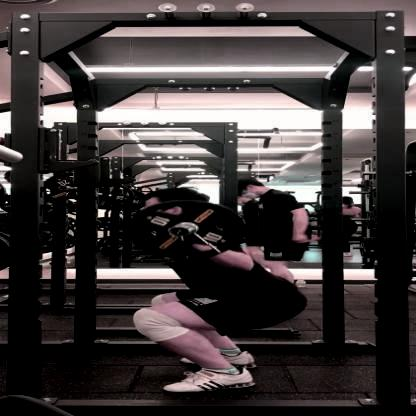Barbell: (164, 224, 196, 238)
